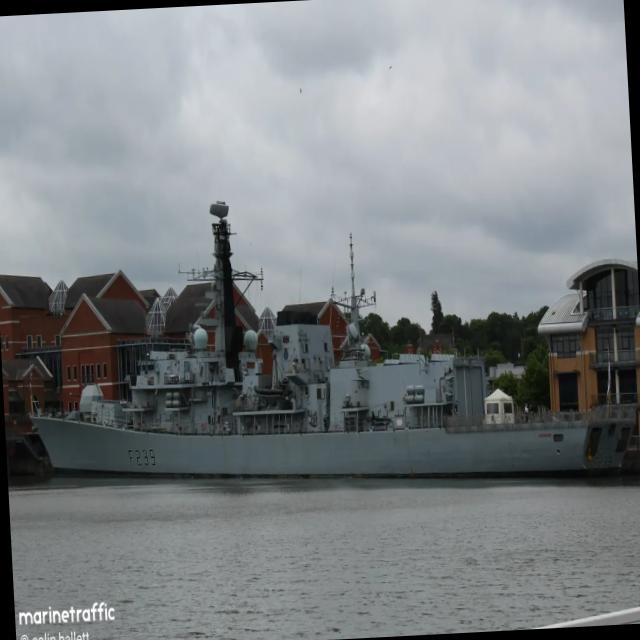Military: (33, 202, 635, 476)
